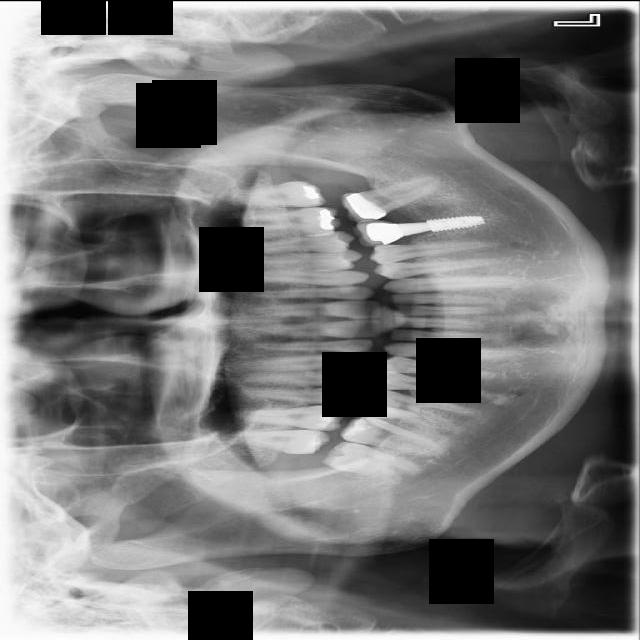52: (333, 185, 389, 234), (338, 409, 394, 450), (287, 204, 342, 238), (356, 385, 405, 422), (351, 215, 405, 248), (276, 178, 327, 207)
73: (572, 37, 594, 51)
BioHorizons Implant: (216, 180, 326, 207)
Blue Sky Bio Implant: (337, 172, 448, 227)
Caries: (218, 427, 331, 455)
Implant: (339, 410, 452, 459)
Keystone Dental Implant: (320, 433, 423, 492)
